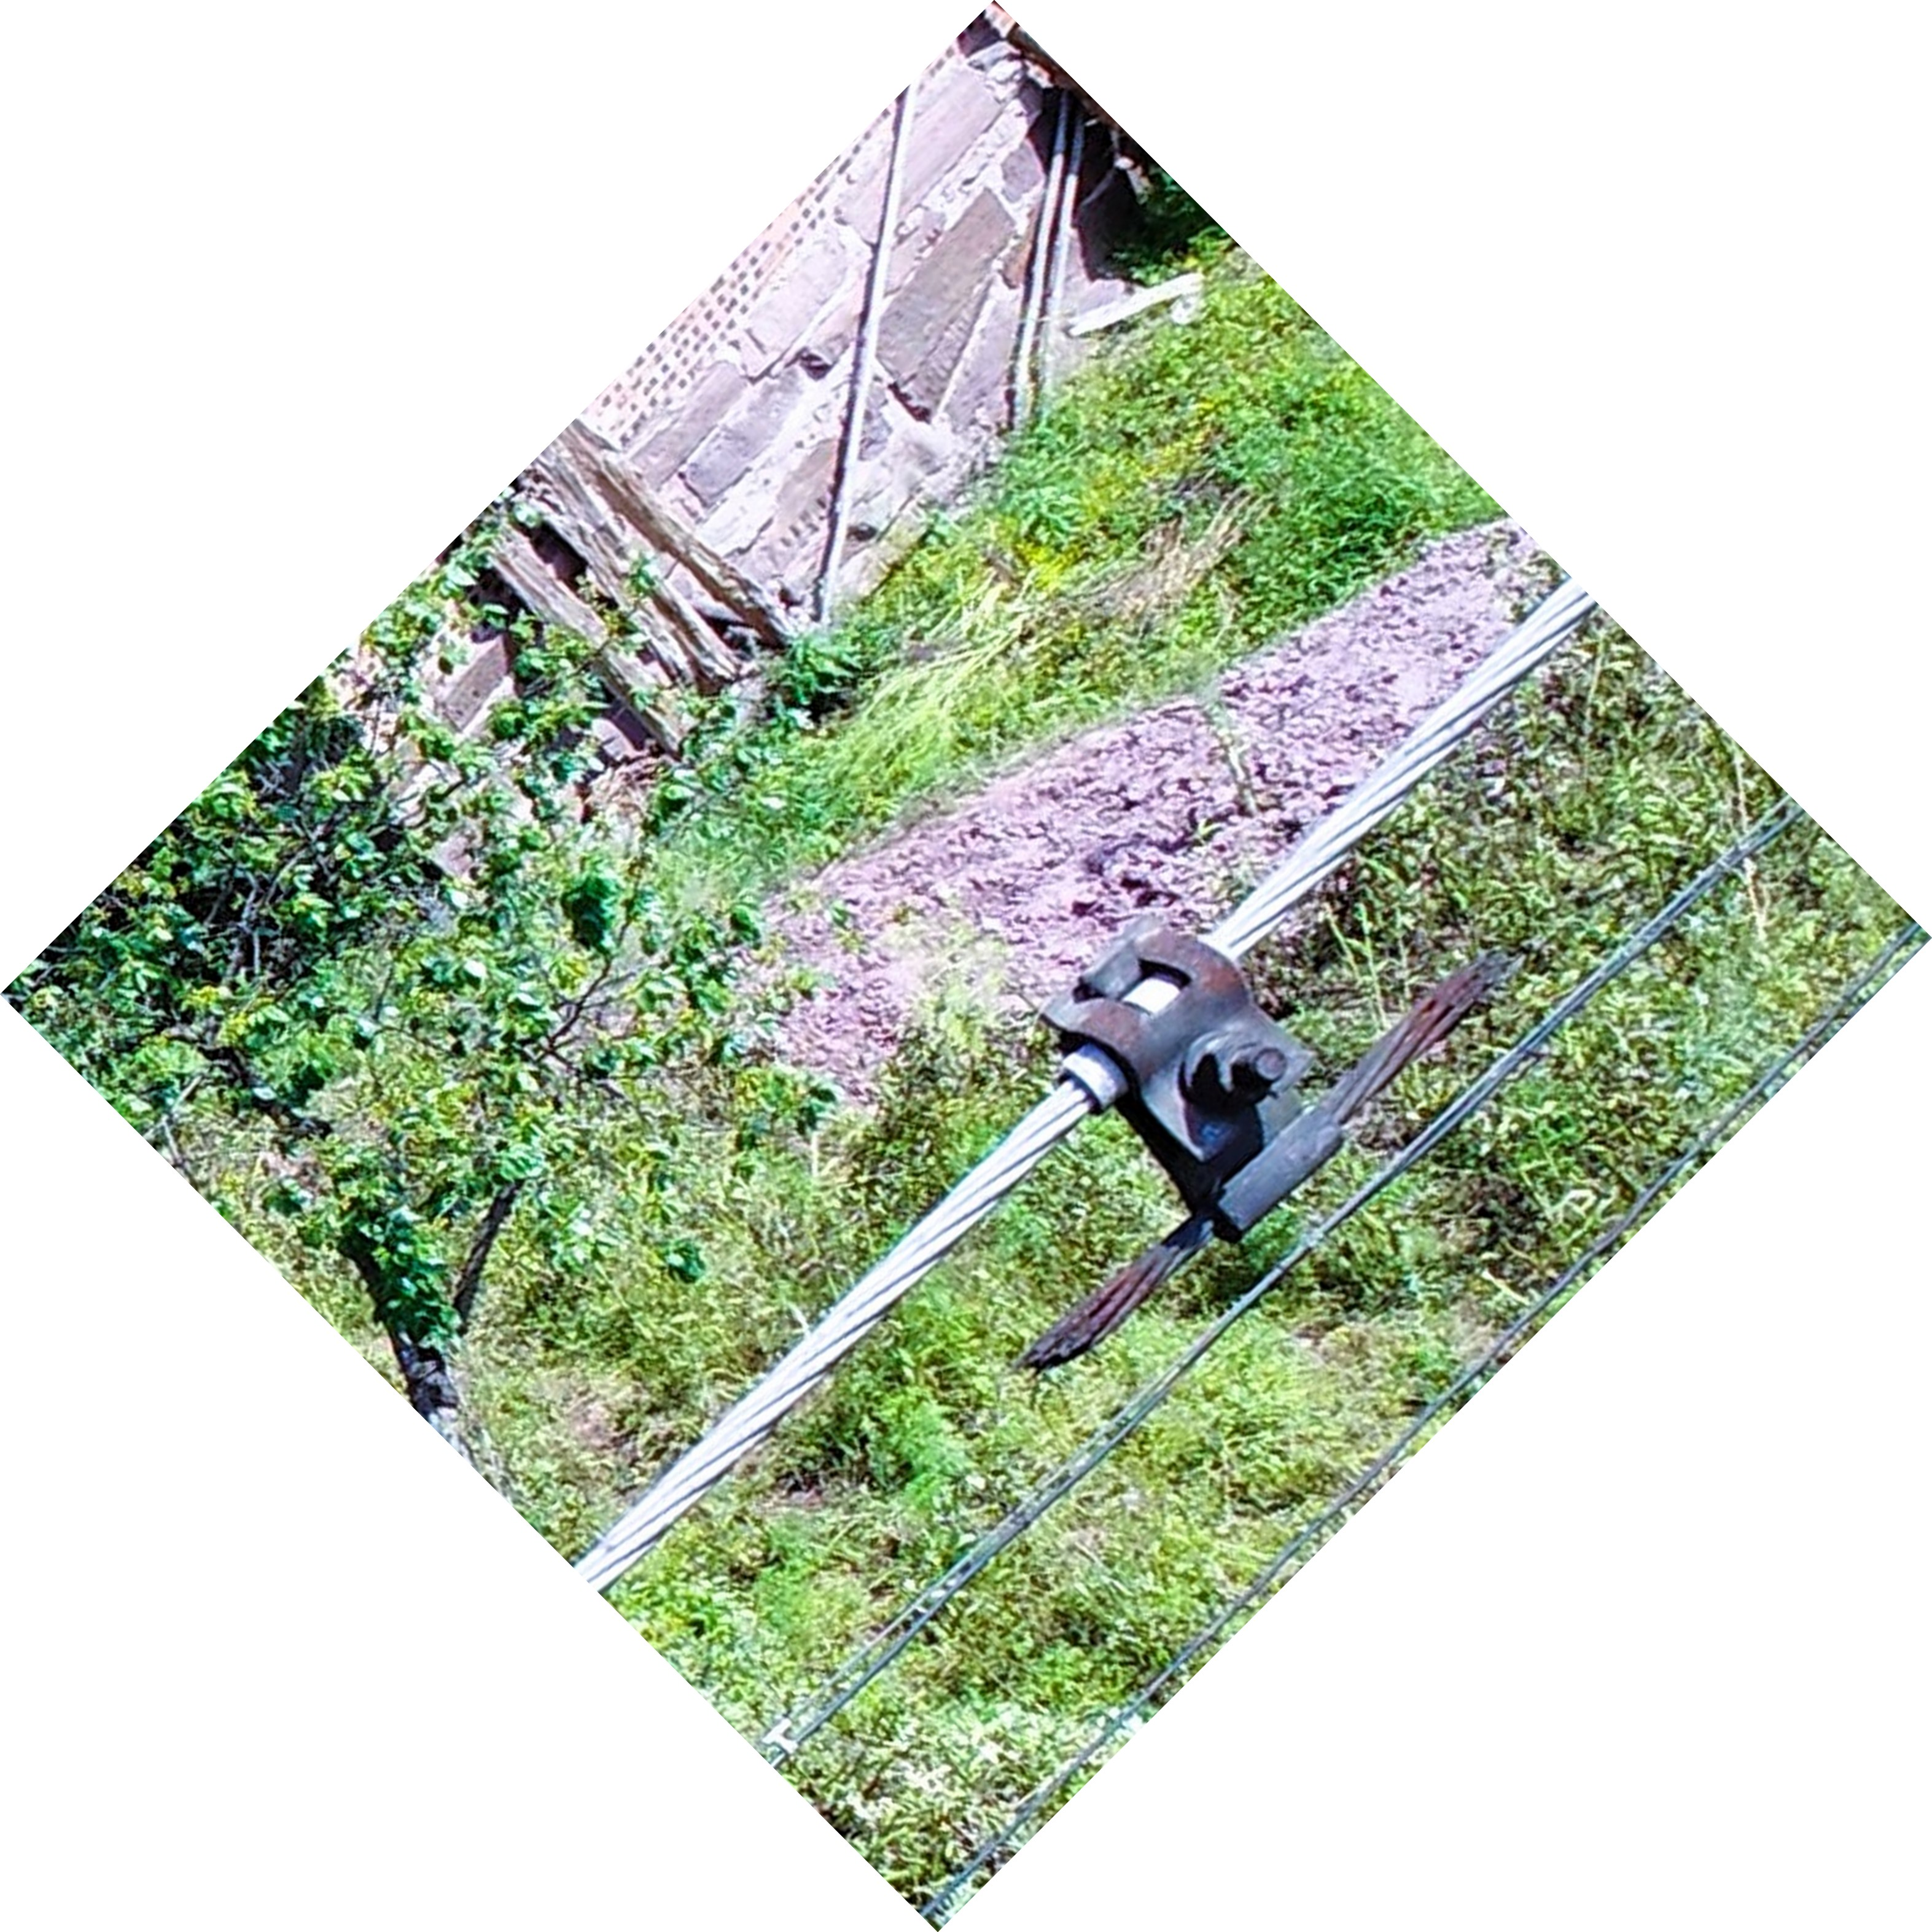Damage of shockproof hammer: (994, 858, 1536, 1431)
